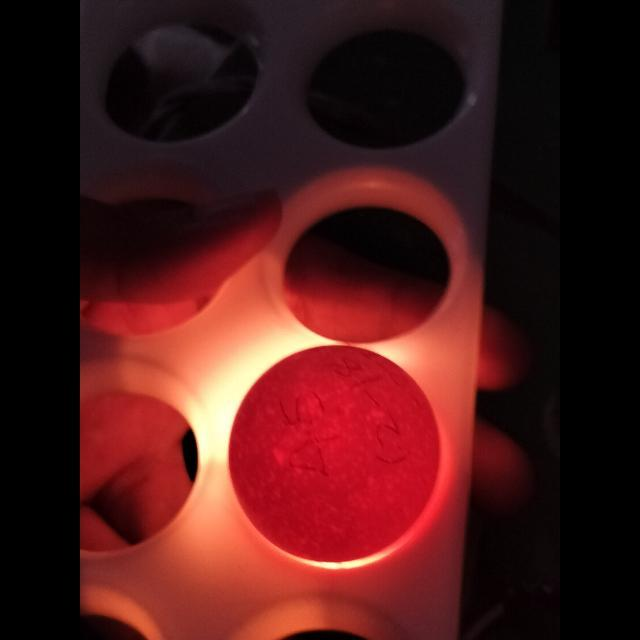Infertile: (224, 342, 438, 560)
